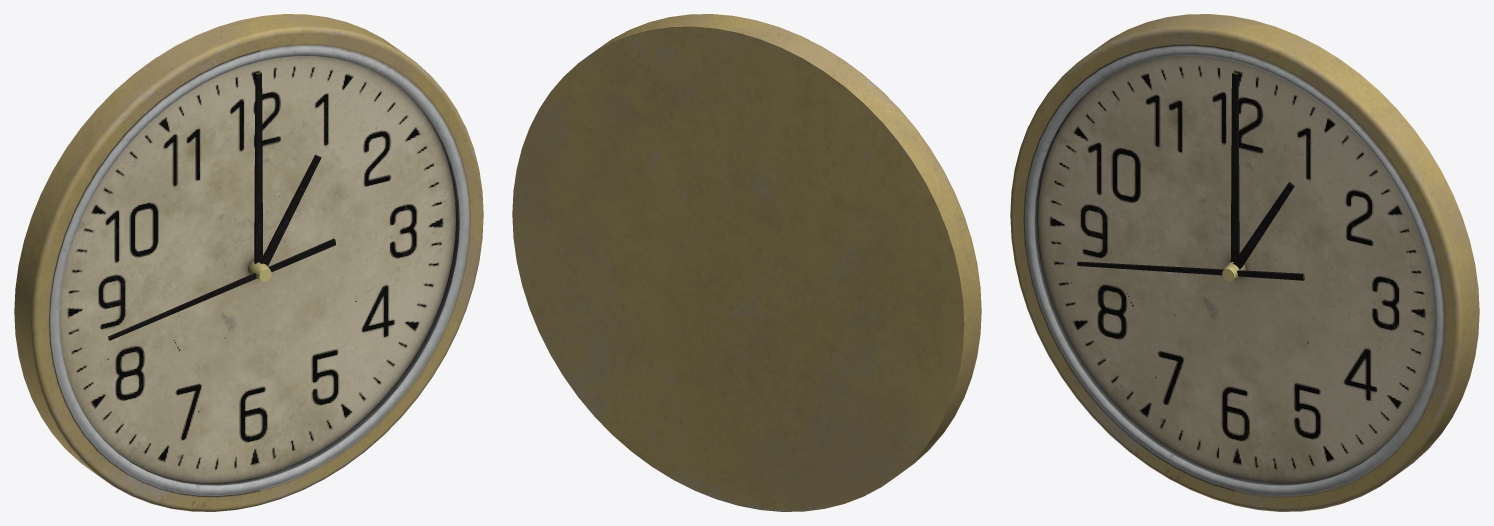
File: M_Clock_01.FBX
The picture shows the model from 3 angles, left to right: view 1: azimuth 30°, elevation 25°; view 2: azimuth 150°, elevation 25°; view 3: azimuth 330°, elevation 25°; orthographic projection.
Visible parts, largest first — view 1: M_Clock_01; view 2: M_Clock_01; view 3: M_Clock_01.
Boxes of the visible parts, x1,y1,x2,y2 form: M_Clock_01: [14, 14, 483, 511]; M_Clock_01: [512, 14, 981, 511]; M_Clock_01: [1010, 14, 1479, 511].
Bounding box in the file's own units: 36 × 4.56 × 36.
